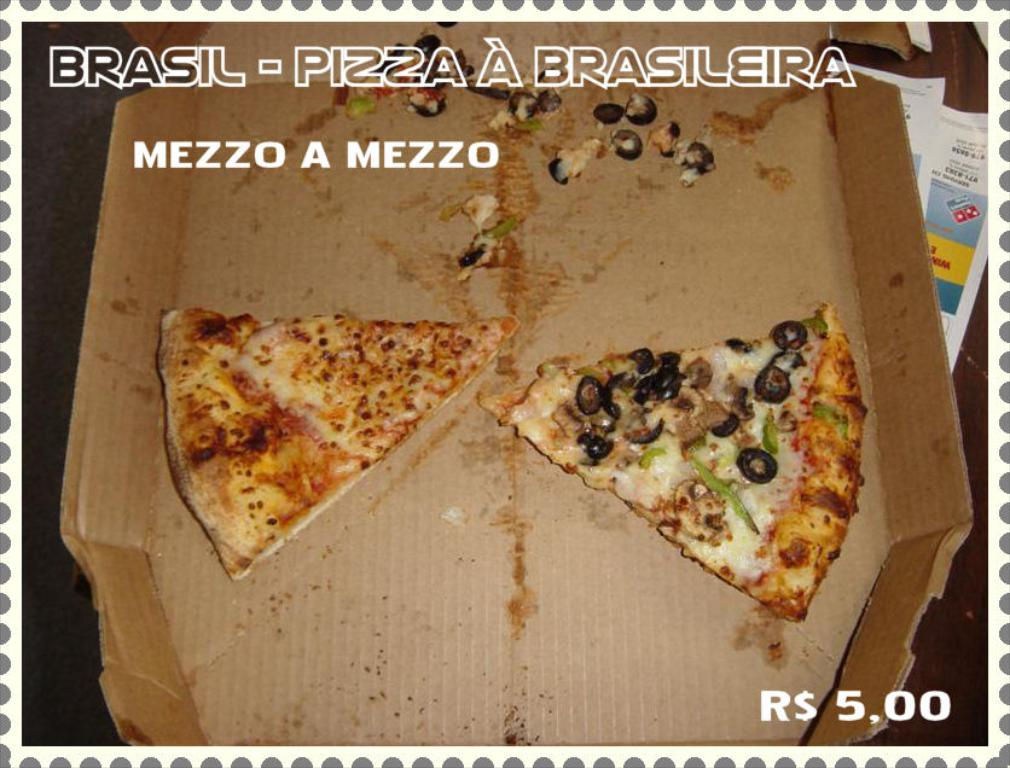Pizza: (513, 317, 871, 601), (158, 315, 490, 595)
